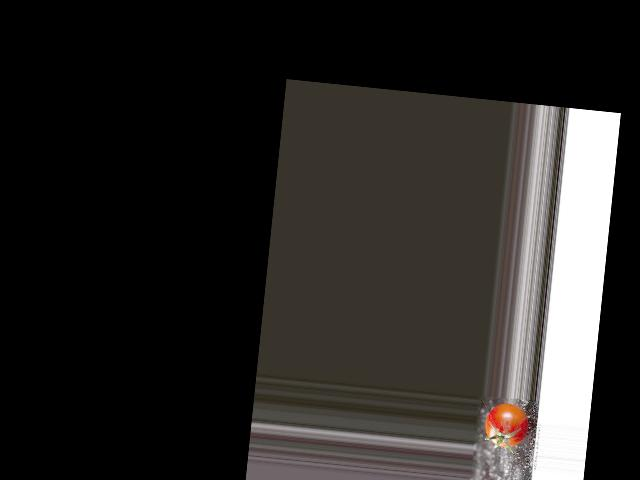tomato: (483, 401, 530, 449)
